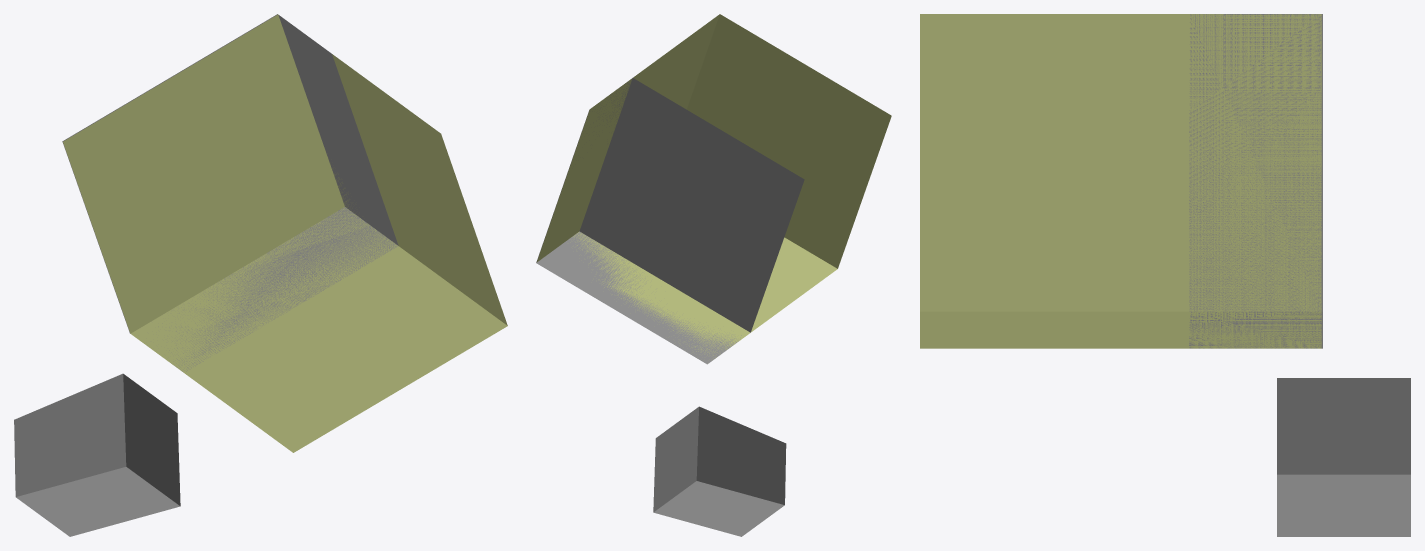
The picture shows the model from 3 angles, left to right: view 1: azimuth 30°, elevation 25°; view 2: azimuth 150°, elevation 25°; view 3: azimuth 270°, elevation 25°; orthographic projection. The views are drawn at different scales.
Parts seen in each view (by area): view 1: 0_1_2_0_3_0_3_2_2_2; view 2: 0_1_2_0_3_0_3_2_2_2; view 3: 0_1_2_0_3_0_3_2_2_2.
Part boxes in pixels (x1,y1,x2,y2): 0_1_2_0_3_0_3_2_2_2: (14, 14, 507, 536); 0_1_2_0_3_0_3_2_2_2: (536, 14, 891, 536); 0_1_2_0_3_0_3_2_2_2: (920, 14, 1410, 536).
Bounding box in the file's own units: 9.4 × 13.84 × 11.
